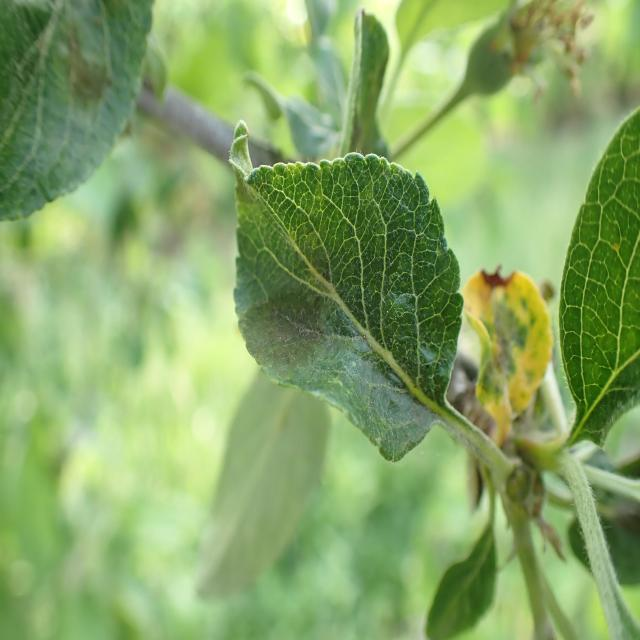scab: (222, 190, 432, 428), (28, 10, 146, 160)
